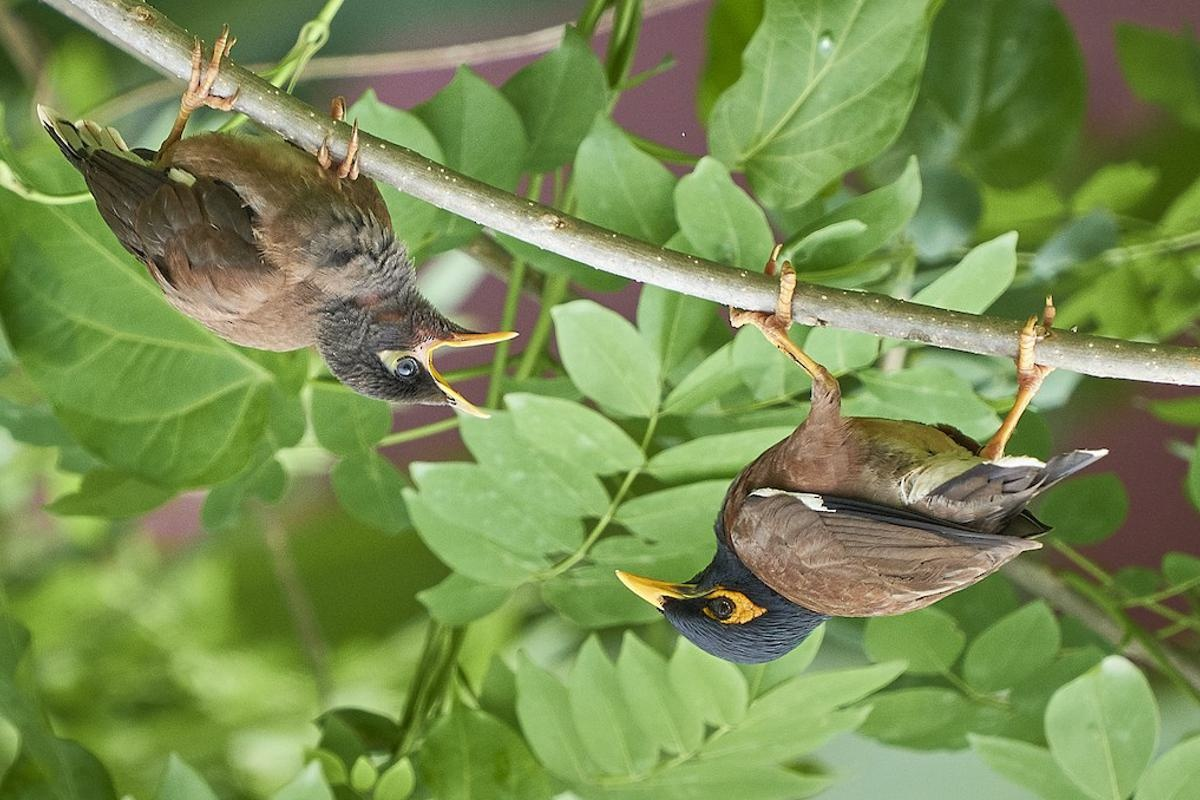myna: (593, 293, 1099, 688), (69, 68, 488, 458)
